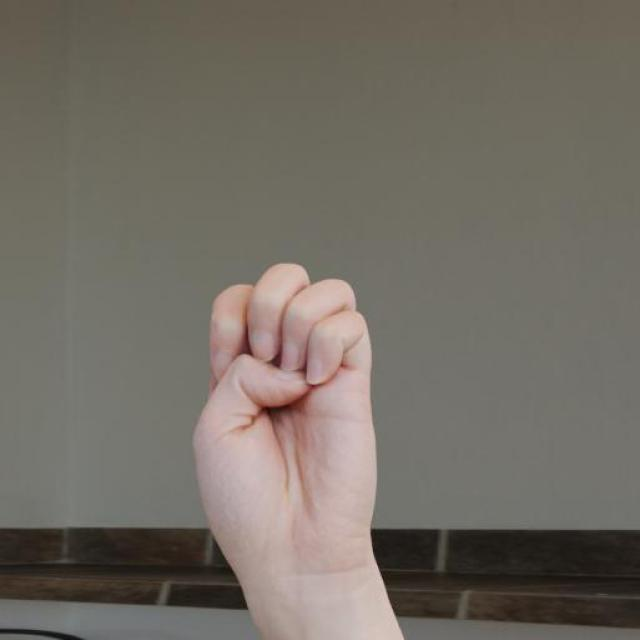E: (188, 259, 384, 572)
